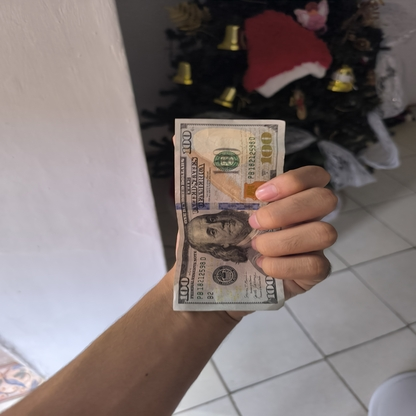one_hundred-front: (166, 111, 295, 316)
